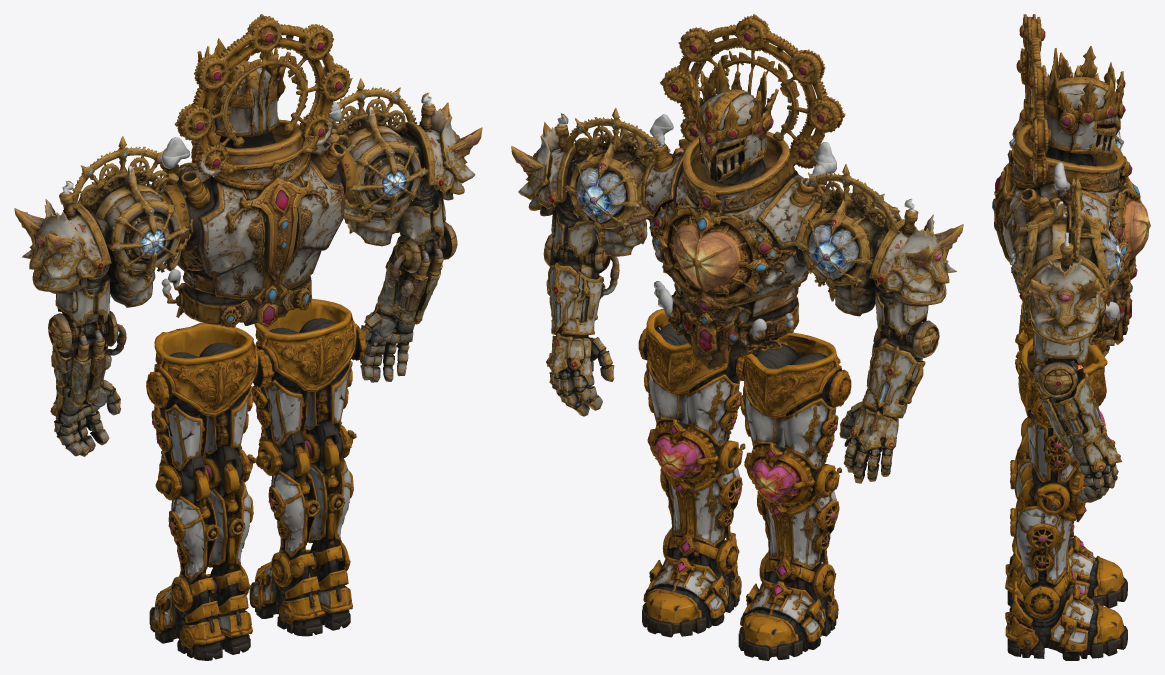
Rendered from Gear_T20.glb.
3 renders of one model, left to right at view 1: azimuth 30°, elevation 25°; view 2: azimuth 150°, elevation 25°; view 3: azimuth 270°, elevation 25°, orthographic. The views are drawn at different scales.
Parts seen in each view (by area): view 1: Torso_Upper, ArmL_Upper, LegL_Upper, ArmR_Upper, LegR_Upper, Head, LegR_Foot, LegL_Foot, LegR_Lower, LegL_Lower, ArmL_Lower, ArmR_Lower (+2 smaller); view 2: Torso_Upper, ArmL_Upper, Head, LegL_Upper, ArmR_Upper, LegR_Upper, LegR_Foot, LegL_Foot, LegR_Lower, LegL_Lower, ArmR_Lower, ArmL_Lower (+3 smaller); view 3: ArmR_Upper, Torso_Upper, Head, LegR_Foot, LegR_Upper, LegR_Lower, ArmR_Lower, LegL_Foot, ArmR_Hand, LegL_Upper, Torso_Lower, LegL_Lower (+1 smaller).
Part boxes in pixels (<box>): Torso_Upper: <box>149,109,356,327</box>; ArmL_Upper: <box>14,136,193,332</box>; LegL_Upper: <box>146,323,267,510</box>; ArmR_Upper: <box>325,78,482,253</box>; LegR_Upper: <box>251,298,366,485</box>; Head: <box>162,14,352,158</box>; LegR_Foot: <box>249,542,352,636</box>; LegL_Foot: <box>149,566,252,660</box>; LegR_Lower: <box>268,468,353,564</box>; LegL_Lower: <box>168,492,253,586</box>; ArmL_Lower: <box>48,322,126,393</box>; ArmR_Lower: <box>377,236,457,313</box>; Torso_Upper: <box>641,122,836,345</box>; ArmL_Upper: <box>794,164,963,339</box>; Head: <box>653,14,845,164</box>; LegL_Upper: <box>737,332,851,503</box>; ArmR_Upper: <box>511,108,683,257</box>; LegR_Upper: <box>638,308,745,480</box>; LegR_Foot: <box>642,533,741,637</box>; LegL_Foot: <box>738,557,838,660</box>; LegR_Lower: <box>660,467,742,549</box>; LegL_Lower: <box>757,491,839,572</box>; ArmR_Lower: <box>543,247,619,336</box>; ArmL_Lower: <box>862,325,939,412</box>; ArmR_Upper: <box>1009,178,1123,376</box>; Torso_Upper: <box>992,106,1150,337</box>; Head: <box>1016,14,1125,177</box>; LegR_Foot: <box>1005,564,1127,660</box>; LegR_Upper: <box>1015,338,1107,517</box>; LegR_Lower: <box>1010,491,1086,590</box>; ArmR_Lower: <box>1027,355,1104,438</box>; LegL_Foot: <box>1005,529,1127,608</box>; ArmR_Hand: <box>1055,426,1121,502</box>; LegL_Upper: <box>1015,302,1106,466</box>; Torso_Lower: <box>1089,312,1131,345</box>; LegL_Lower: <box>1010,442,1074,530</box>.
Size of the model in its own units: 4.63 by 6.25 by 1.49.
Materials: 3 (3 with a texture image).
